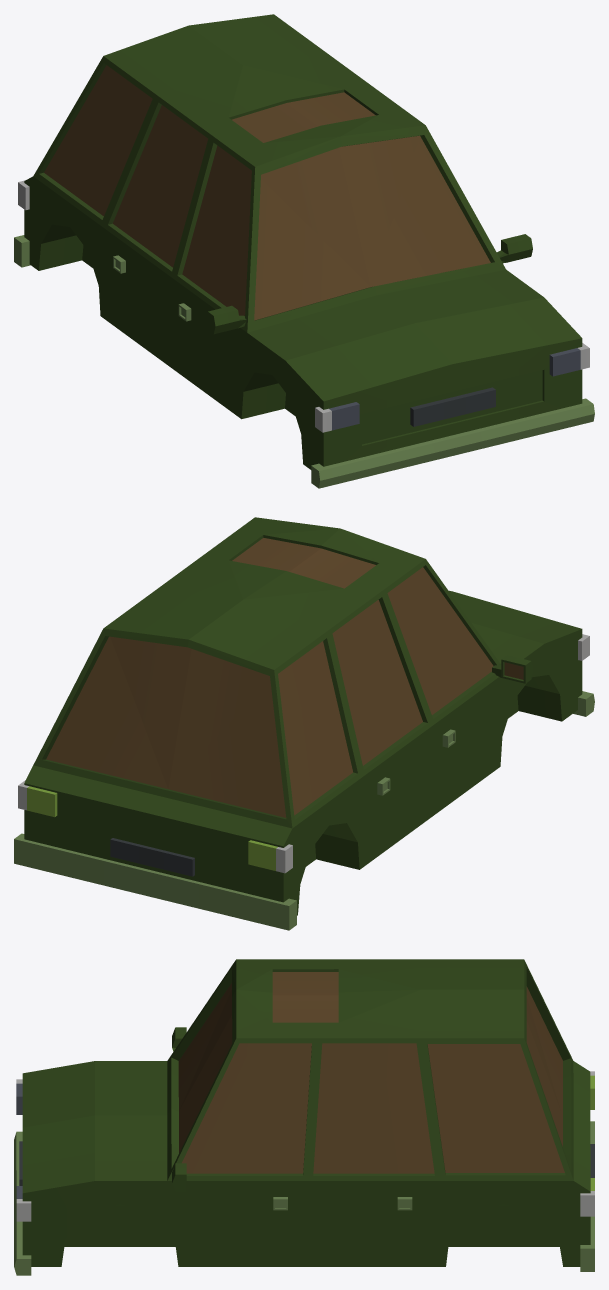
The model's file is Car_03.fbx.
The picture shows the model from 3 angles, top to bottom: view 1: azimuth 30°, elevation 25°; view 2: azimuth 150°, elevation 25°; view 3: azimuth 270°, elevation 25°; orthographic projection. The views are drawn at different scales.
Parts seen in each view (by area): view 1: Car_03; view 2: Car_03; view 3: Car_03.
Part boxes in pixels (bbox=[...]): Car_03: bbox=[14, 14, 594, 488]; Car_03: bbox=[14, 517, 594, 930]; Car_03: bbox=[14, 959, 594, 1275].
Bounding box in the file's own units: 1.98 × 1.39 × 3.3.
